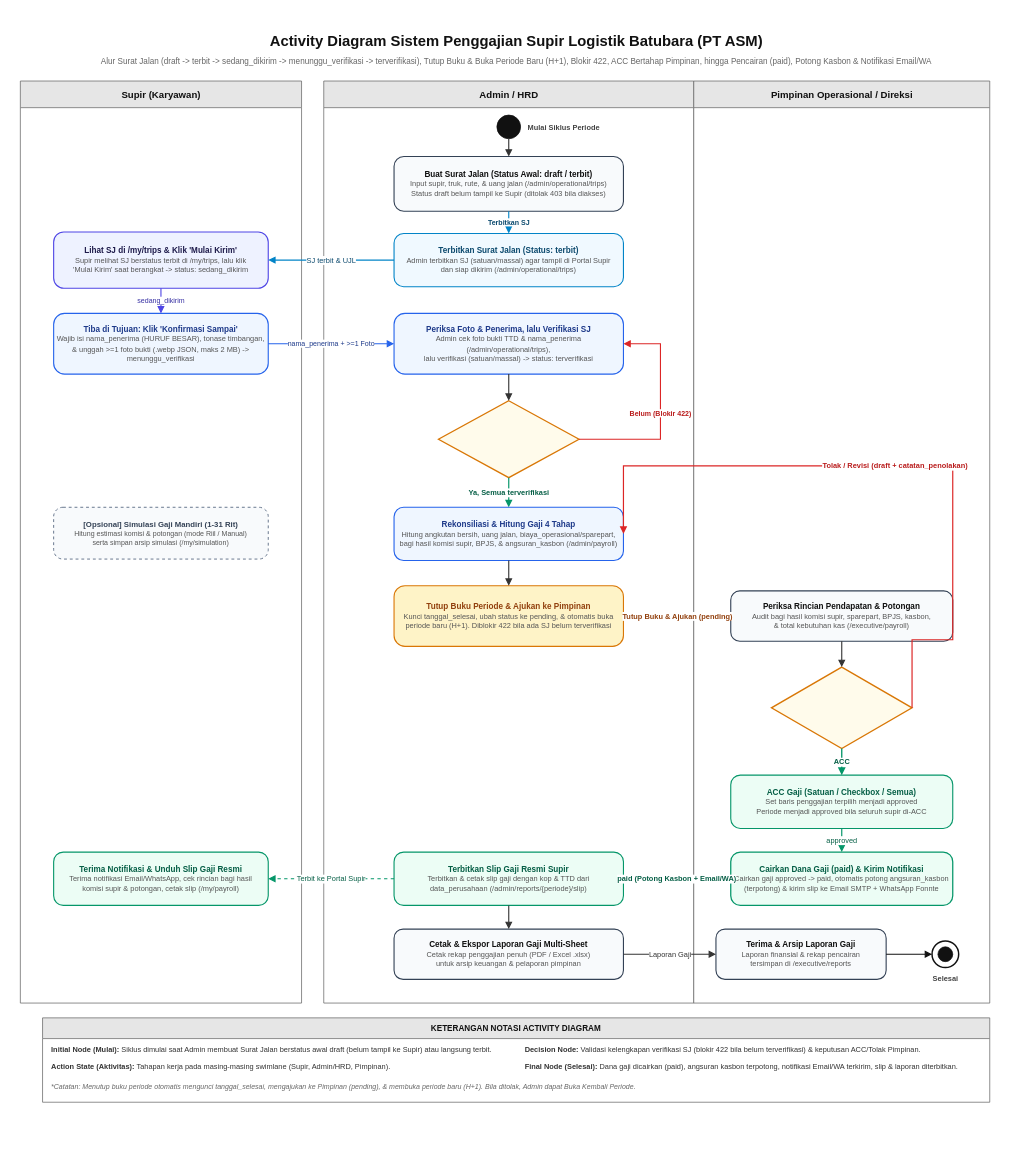
The diagram is 1032 pixels wide and 1150 high, and some of its shapes have lost their labels. Each missing label, with the centre of its shape:
Keputusan Otorisasi Pimpinan?: the point at 841,707
Seluruh SJ Periode Sudah terverifikasi?: the point at 508,439
